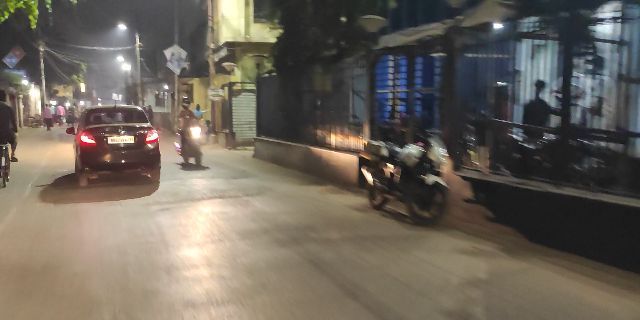Car: (70, 105, 161, 189)
Motorbike: (360, 134, 455, 220), (171, 94, 212, 171)
